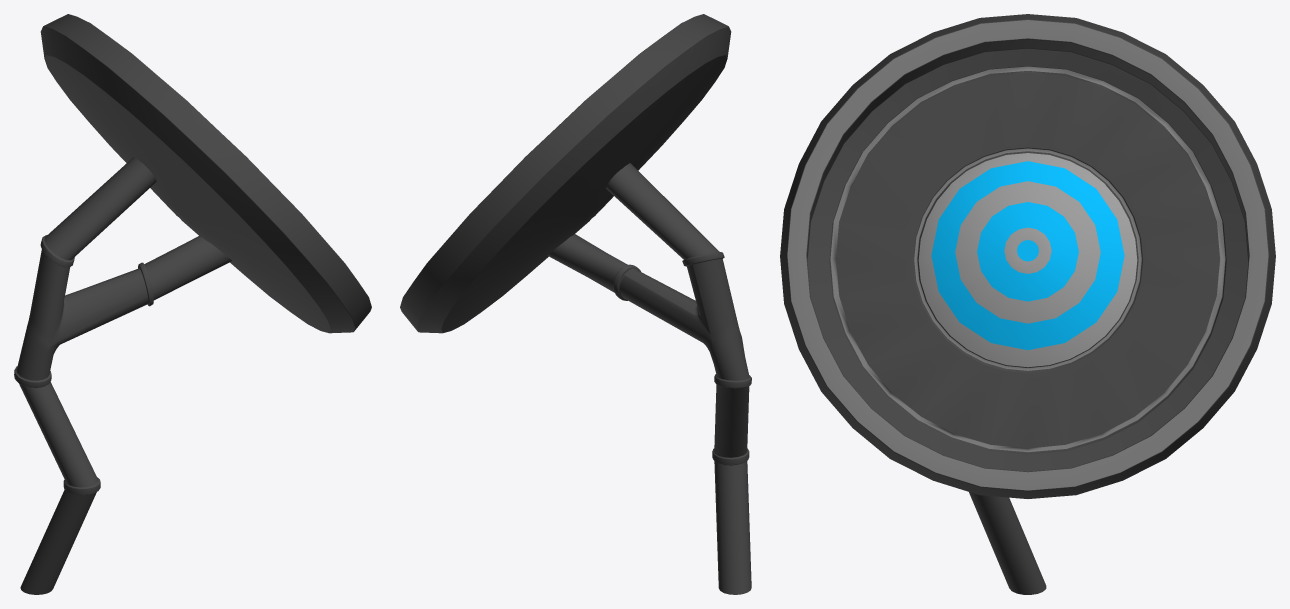
File: SM_Satellite_03.fbx
3 renders of one model, left to right at view 1: azimuth 30°, elevation 25°; view 2: azimuth 150°, elevation 25°; view 3: azimuth 270°, elevation 25°, orthographic. The views are drawn at different scales.
Visible parts, largest first — view 1: Satelite_03; view 2: Satelite_03; view 3: Satelite_03.
Boxes of the visible parts, x1=… form: Satelite_03: x1=14, y1=14, x2=371, y2=594; Satelite_03: x1=400, y1=14, x2=751, y2=594; Satelite_03: x1=780, y1=14, x2=1275, y2=594.
Size of the model in its own units: 322 by 531 by 393.
